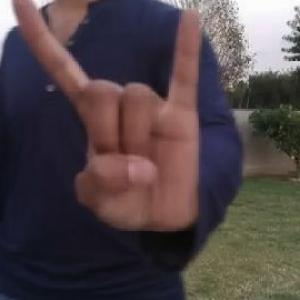takeoff-hand: (3, 0, 211, 246)
